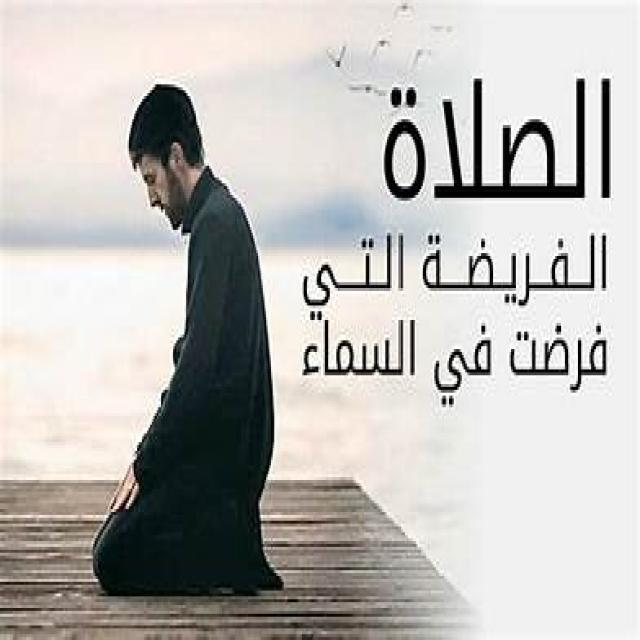9_cabeza_baja: (129, 84, 207, 237)
